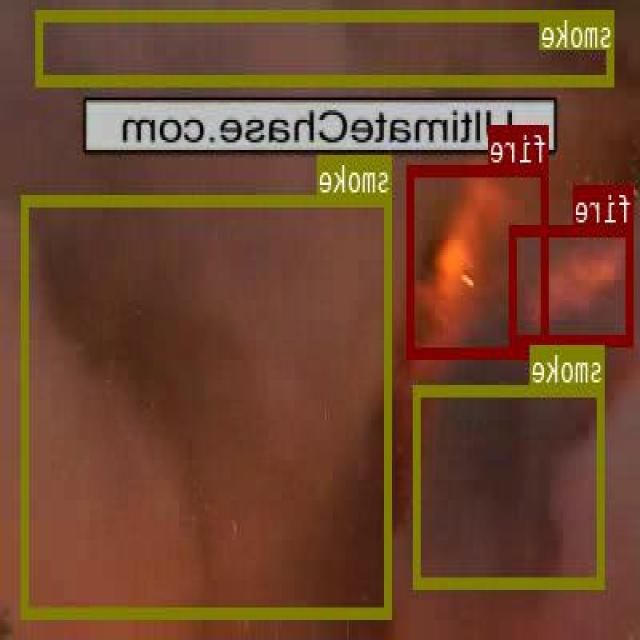fire: (409, 164, 549, 355), (511, 224, 634, 345)
smoke: (23, 194, 393, 616), (38, 9, 614, 83), (416, 384, 606, 588)
